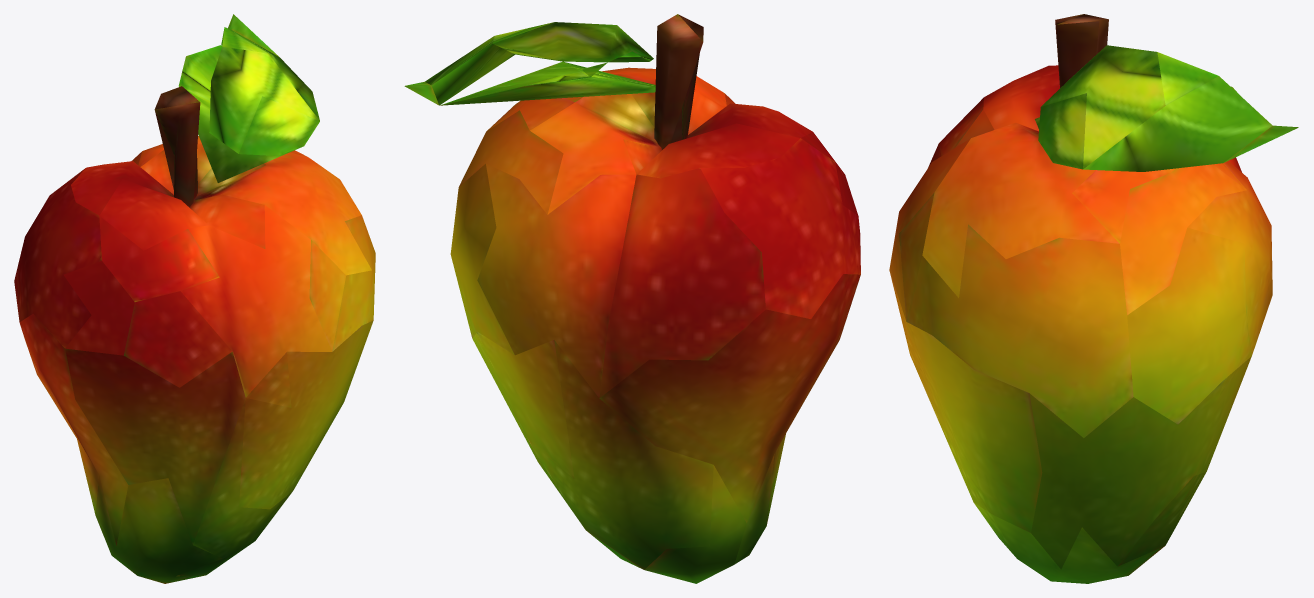
File: wumpa.glb
3 renders of one model, left to right at view 1: azimuth 30°, elevation 25°; view 2: azimuth 150°, elevation 25°; view 3: azimuth 270°, elevation 25°, orthographic. The views are drawn at different scales.
Parts seen in each view (by area): view 1: wumpa; view 2: wumpa; view 3: wumpa.
Boxes of the visible parts, left/top/right/bottom form: wumpa: left=14, top=14, right=375, bottom=583; wumpa: left=404, top=14, right=860, bottom=583; wumpa: left=889, top=14, right=1298, bottom=583.
Size of the model in its own units: 0.707 by 1 by 0.6562.
Materials: 1 (1 with a texture image).
